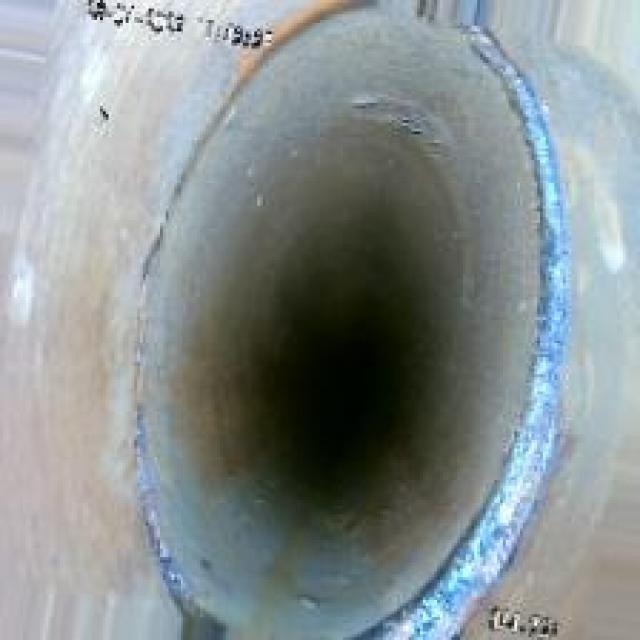joint: (123, 0, 586, 629)
